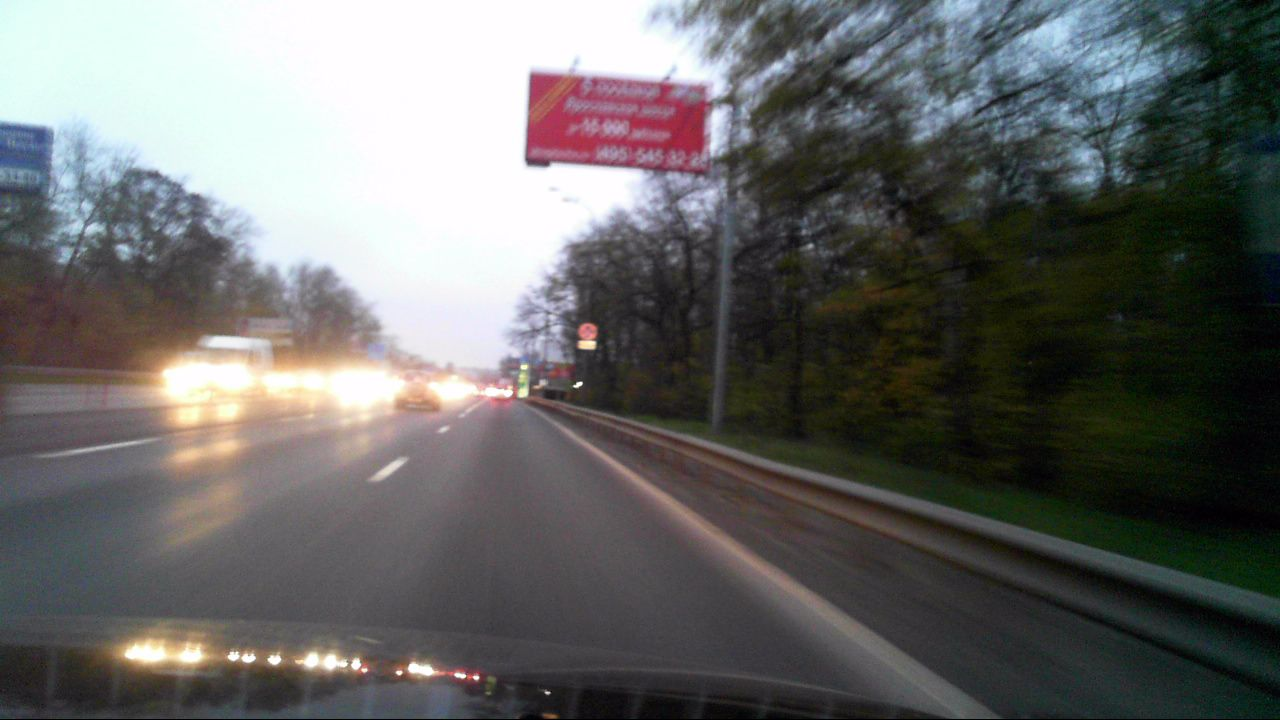No Parking: (577, 322, 596, 341)
